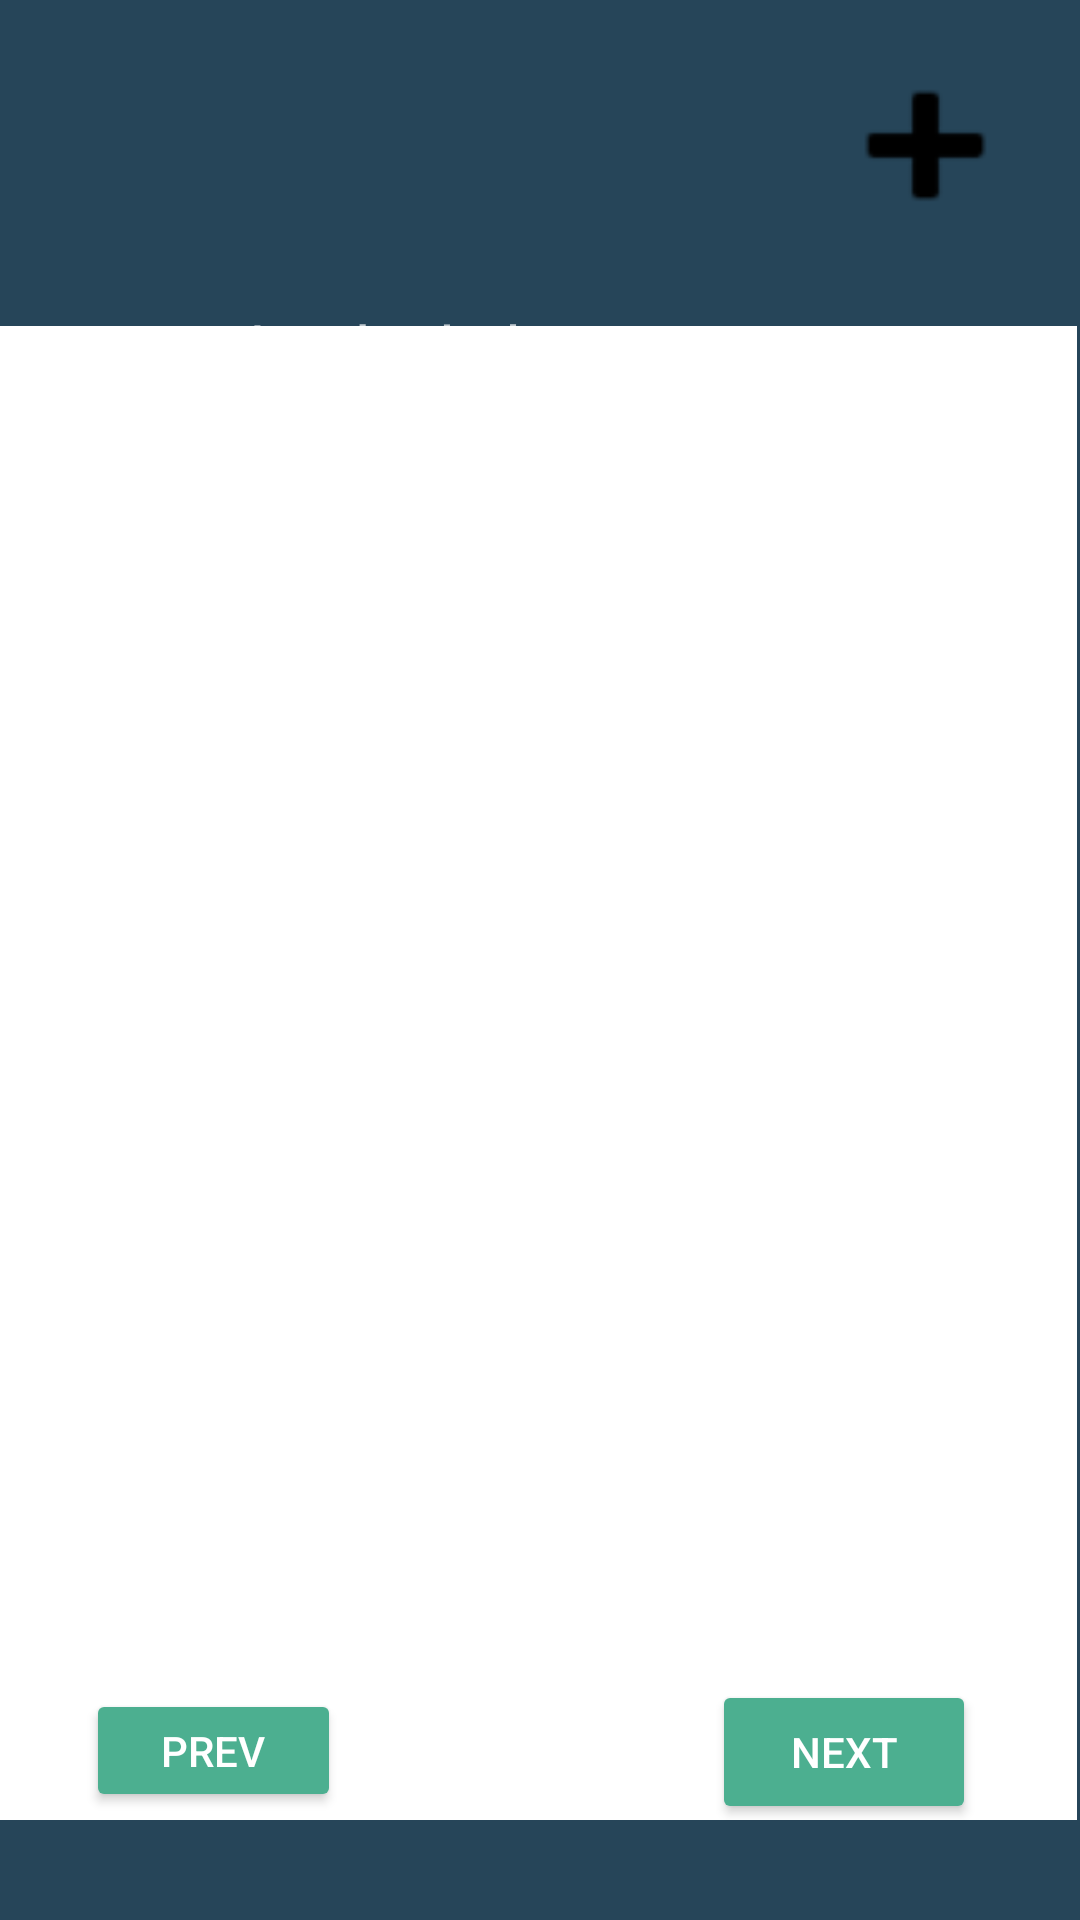

Locate icon controls on the screen. Image size 1080px x 1920px, boxes as (x1, y1, x2, y2).
add: (866, 92, 985, 199)
